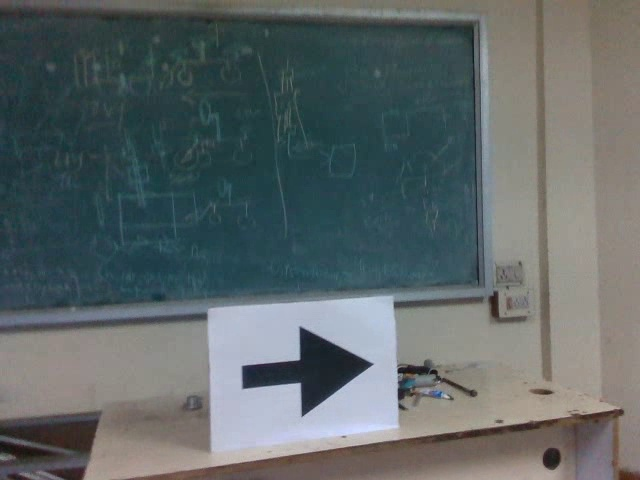Right: (231, 320, 379, 421)
